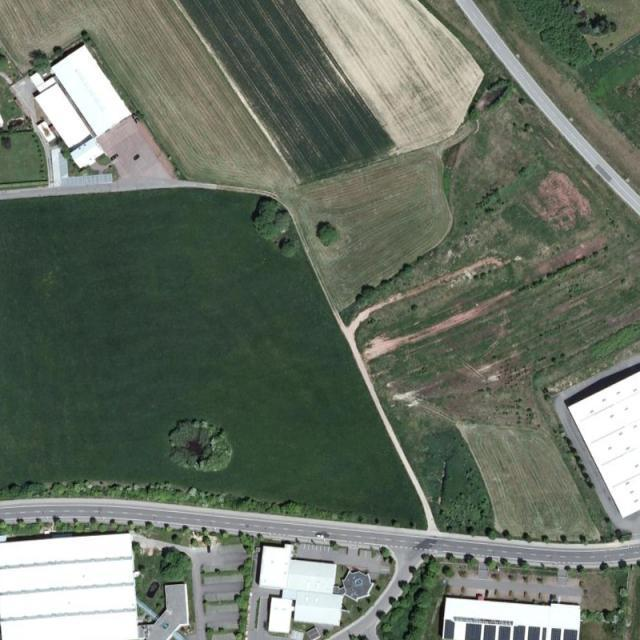vehicle: (110, 154, 119, 162), (133, 154, 141, 161), (316, 534, 324, 538)
